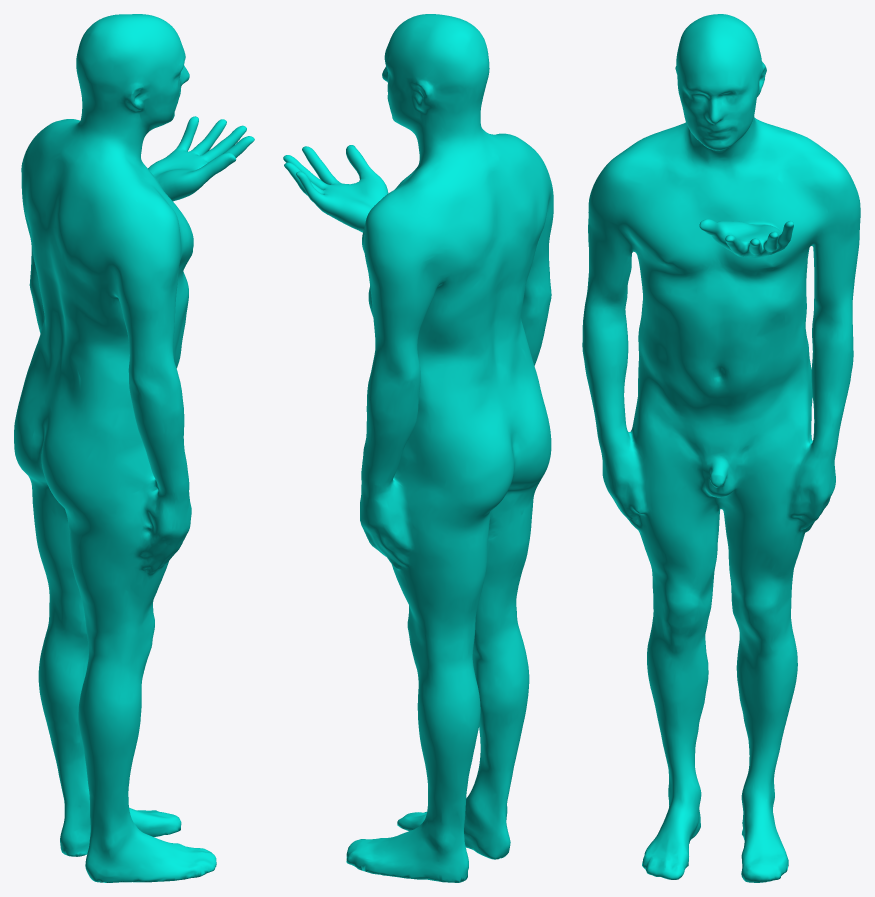
File: asset.glb
The picture shows the model from 3 angles, left to right: view 1: azimuth 30°, elevation 25°; view 2: azimuth 150°, elevation 25°; view 3: azimuth 270°, elevation 25°; orthographic projection.
Parts seen in each view (by area): view 1: surface; view 2: surface; view 3: surface.
Boxes of the visible parts, x1,y1,x2,y2 form: surface: (14,14,254,882); surface: (283,14,553,882); surface: (582,14,860,882).
Size of the model in its own units: 0.0473 by 0.1648 by 0.0502.
